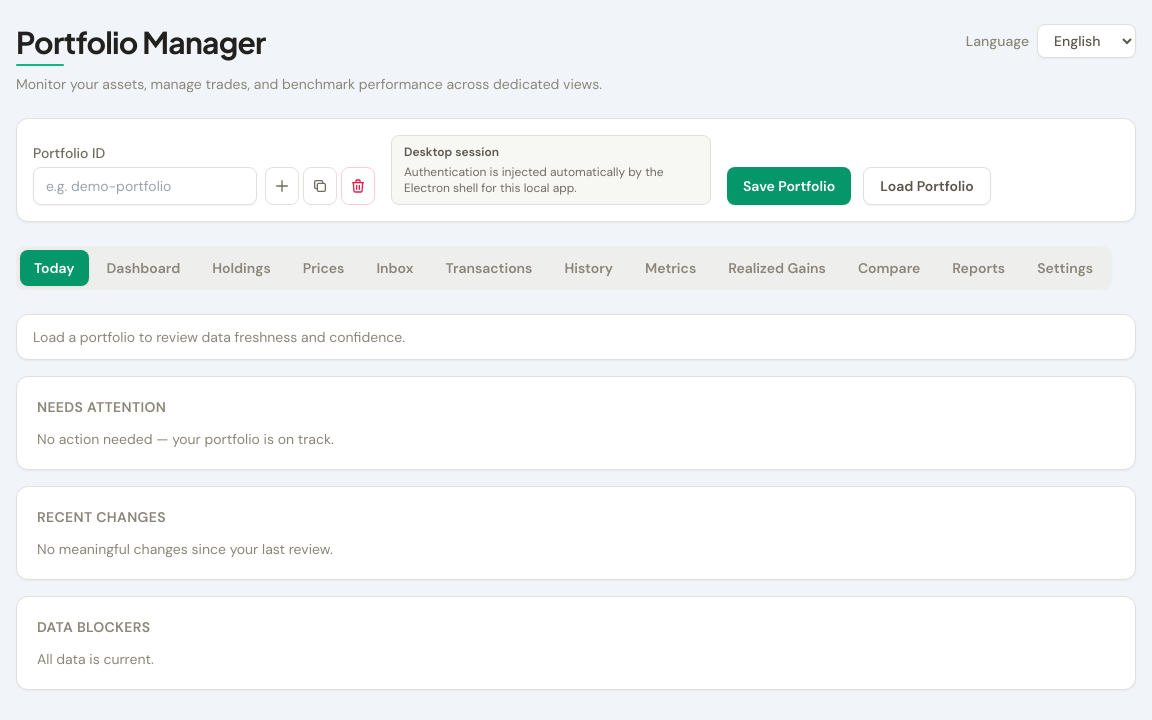
PortfolioManagerApp shell › save without portfolio ID shows validation message
Click the button "Save Portfolio" at (789, 186), box [727, 167, 851, 205]
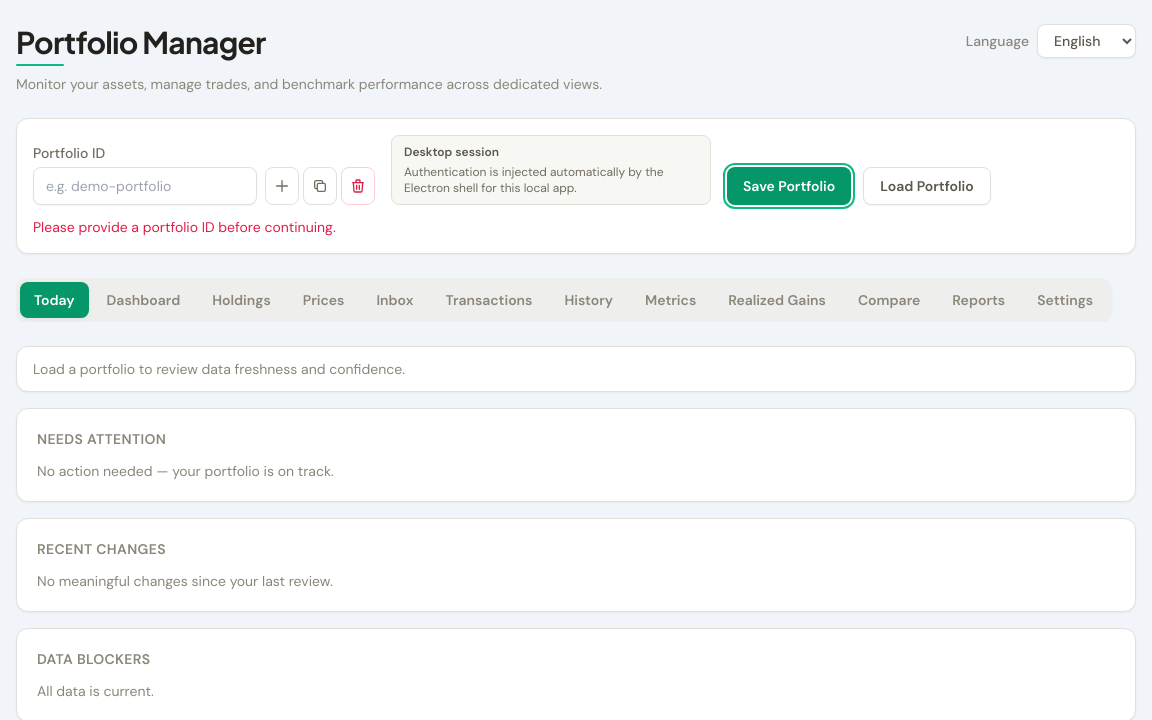
Expected: the text "Please provide a portfolio ID before continuing." is shown, [33, 218, 336, 236]
